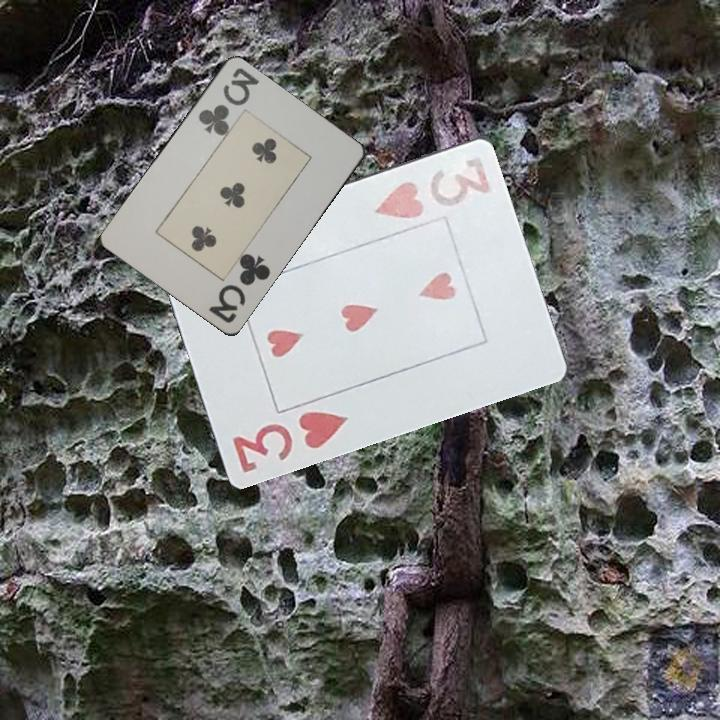3c: (204, 250, 274, 327), (194, 64, 262, 139)
3h: (371, 151, 494, 222), (229, 407, 351, 478)
